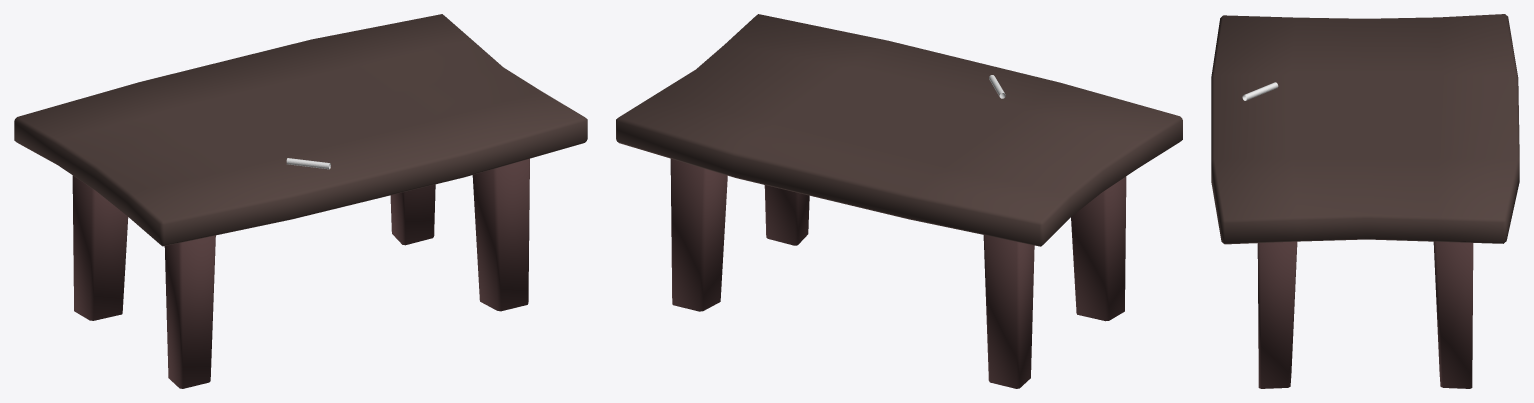
Rendered from table.fbx.
The picture shows the model from 3 angles, left to right: view 1: azimuth 30°, elevation 25°; view 2: azimuth 150°, elevation 25°; view 3: azimuth 270°, elevation 25°; orthographic projection.
Visible parts, largest first — view 1: table-top, table-leg; view 2: table-top, table-leg; view 3: table-top, table-leg.
Boxes of the visible parts, box(x1,y1,x2,y2) form: table-top: box(14, 14, 587, 246); table-leg: box(72, 158, 529, 388); table-top: box(616, 14, 1182, 246); table-leg: box(670, 158, 1126, 388); table-top: box(1211, 14, 1519, 244); table-leg: box(1257, 241, 1473, 388).
Bounding box in the file's own units: 679 × 296 × 426.
